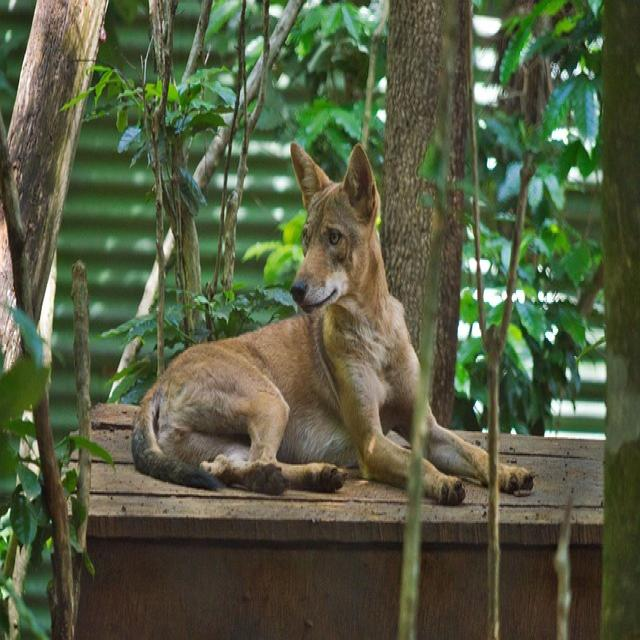Carnivorous: (130, 144, 420, 499)
